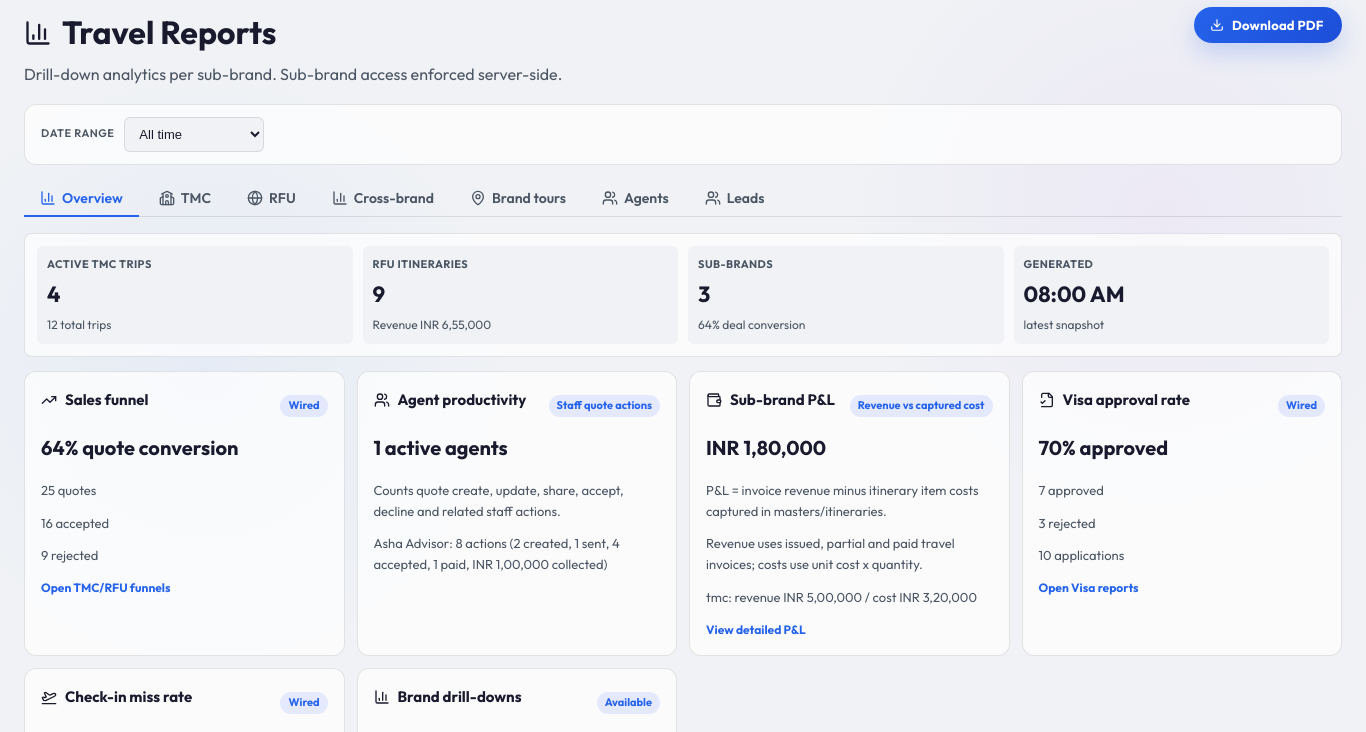
<TravelReports /> — TMC tab content › renders TMC KPI tiles + cards with populated data
Expected: the heading "Sales funnel" is shown, [41, 388, 148, 412]
Click the tab "TMC" at (185, 199), box [143, 181, 227, 217]
(page scrolled)
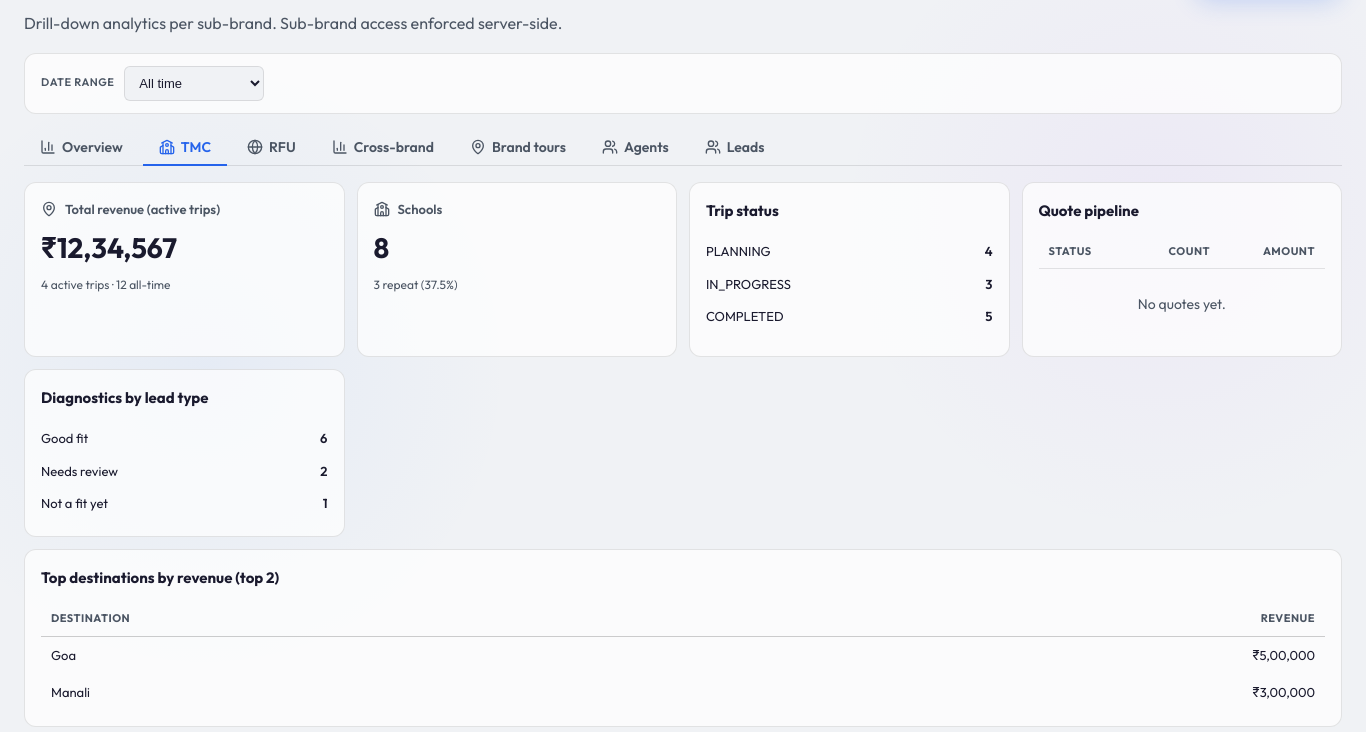
Expected: the text "Total revenue (active trips)" is shown, [41, 201, 220, 217]
Expected: the text "Schools" is shown, [374, 201, 442, 217]
Expected: the heading "Diagnostics by lead type" is shown, [41, 388, 208, 407]
